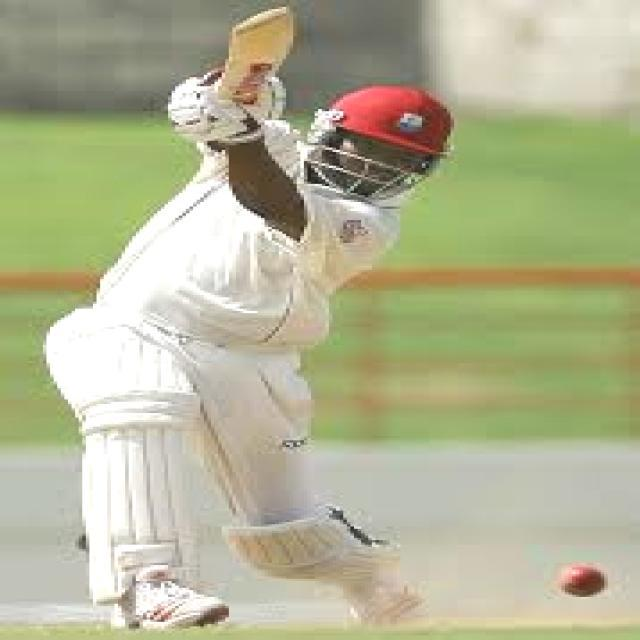bat: (230, 6, 296, 105)
toe: (231, 3, 291, 34)
